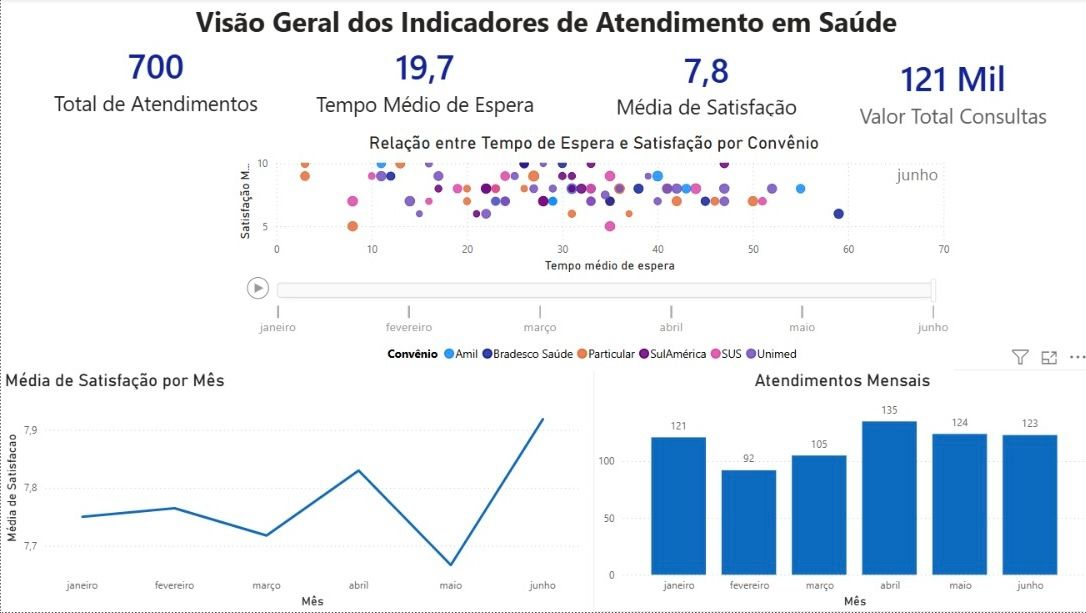

The dashboard page shown, as its layout file describes it:
{"tool":"powerbi","page":{"name":"Visão Geral","canvas":[1280,720],"ordinal":0},"visuals":[{"type":"columnChart","title":"Atendimentos Mensais","fields":{"Category":["TabelaAtendimentos.Mes.Variation.Hierarquia de datas.Mês"],"Y":["CountNonNull(TabelaAtendimentos.ID_Atendimento)"]},"box":[695.8,435.3,584.5,284.9],"z":0},{"type":"lineChart","title":"Média de Satisfação por Mês","fields":{"Category":["TabelaAtendimentos.Mes.Variation.Hierarquia de datas.Mês"],"Y":["Avg(TabelaAtendimentos.Satisfacao)"]},"box":[0,435.3,684.8,284.9],"z":1000},{"type":"scatterChart","title":"Relação entre Tempo de Espera e Satisfação por Convênio","fields":{"X":["Avg(TabelaAtendimentos.Tempo_Espera_Min)"],"Y":["Avg(TabelaAtendimentos.Satisfacao)"],"Size":["Avg(TabelaAtendimentos.Valor_Consulta)"],"Category":["TabelaAtendimentos.Paciente_ID"],"Series":["TabelaAtendimentos.Convenio"],"Play":["TabelaAtendimentos.Mes_Texto"]},"box":[273.9,156.5,845,278.8],"z":2000},{"type":"cardVisual","fields":{"Data":["TabelaAtendimentos.Tempo Médio de Espera"]},"box":[331.4,34.2,333.8,122.3],"z":3000},{"type":"cardVisual","fields":{"Data":["TabelaAtendimentos.Total de Atendimentos"]},"box":[33,33,298.4,123.5],"z":4000},{"type":"cardVisual","fields":{"Data":["TabelaAtendimentos.Valor Total  Consultas"]},"box":[968.5,50.1,299.6,118.6],"z":5000},{"type":"textbox","box":[223.8,0,922,63.6],"z":6000},{"type":"cardVisual","fields":{"Data":["TabelaAtendimentos.Média de Satisfação"]},"box":[684.8,41.6,287.4,114.9],"z":7000}]}

Visuals, with their boxes in screenshot pixels (x1, y1, x2, y2), scaled from the page's 1280x720 canvas onto the 1086x613 screenshot:
"Atendimentos Mensais" columnChart: <region>590, 371, 1085, 612</region>
"Média de Satisfação por Mês" lineChart: <region>0, 371, 581, 612</region>
"Relação entre Tempo de Espera e Satisfação por Convênio" scatterChart: <region>232, 133, 949, 371</region>
cardVisual - TabelaAtendimentos.Tempo Médio de Espera: <region>281, 29, 564, 133</region>
cardVisual - TabelaAtendimentos.Total de Atendimentos: <region>28, 28, 281, 133</region>
cardVisual - TabelaAtendimentos.Valor Total  Consultas: <region>822, 43, 1076, 144</region>
textbox: <region>190, 0, 972, 54</region>
cardVisual - TabelaAtendimentos.Média de Satisfação: <region>581, 35, 825, 133</region>
